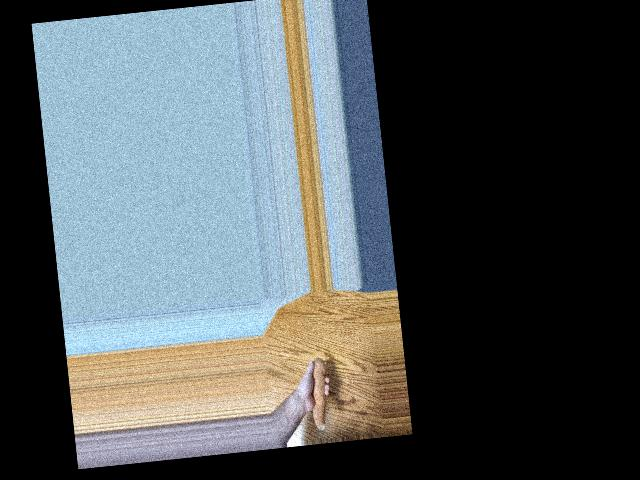sweet_potato: (301, 356, 333, 433)
